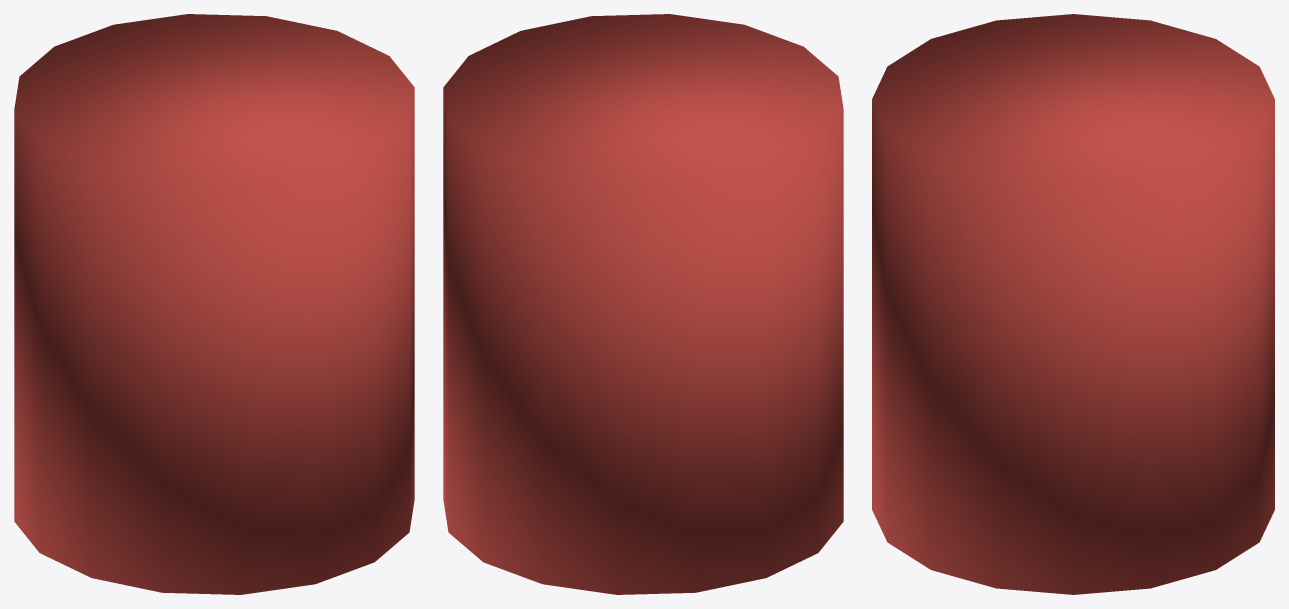
Rendered from storage-tank-water.glb.
3 views of the same model, side by side, from view 1: azimuth 30°, elevation 25°; view 2: azimuth 150°, elevation 25°; view 3: azimuth 270°, elevation 25° (orthographic).
Parts seen in each view (by area): view 1: lifangti.007; view 2: lifangti.007; view 3: lifangti.007.
Boxes of the visible parts, <box> form: lifangti.007: <box>14,14,414,594</box>; lifangti.007: <box>443,14,843,594</box>; lifangti.007: <box>872,14,1274,594</box>.
Size of the model in its own units: 10.45 by 11.75 by 10.45.
